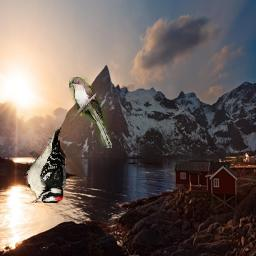Cuckoo: (70, 78, 113, 149)
Woodpecker: (24, 127, 66, 203)
